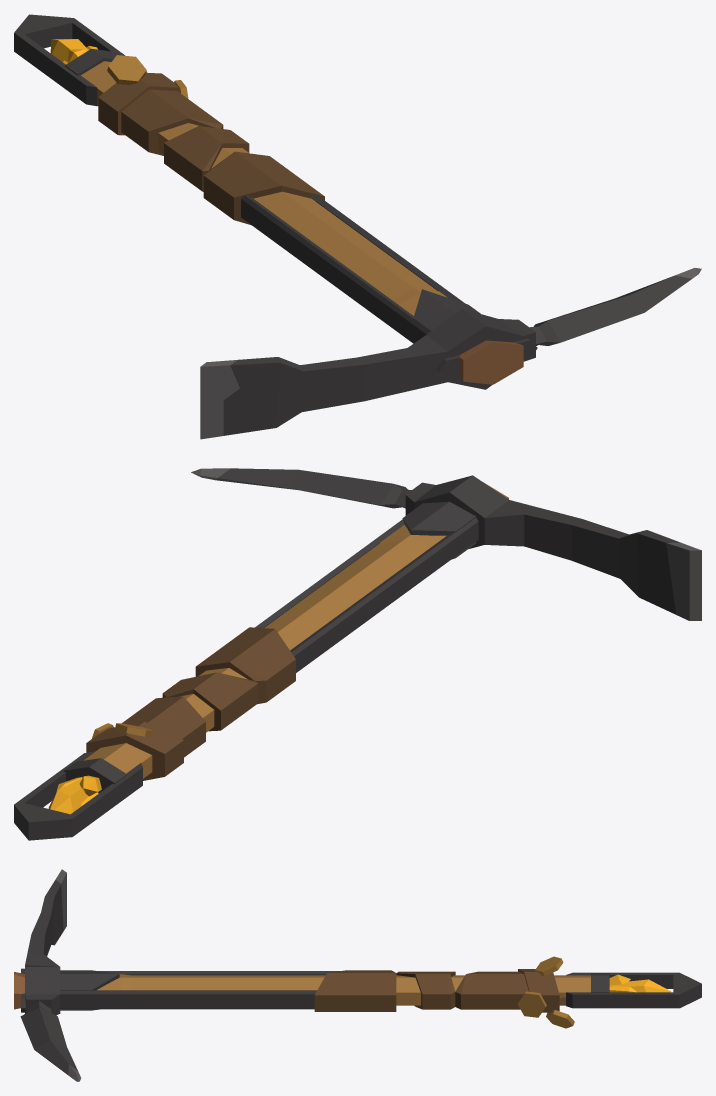
File: SM_Pickaxe_Dwarf.fbx
3 renders of one model, top to bottom at view 1: azimuth 30°, elevation 25°; view 2: azimuth 150°, elevation 25°; view 3: azimuth 270°, elevation 25°, orthographic. The views are drawn at different scales.
Visible parts, largest first — view 1: SM_Pickaxe_Dwarf; view 2: SM_Pickaxe_Dwarf; view 3: SM_Pickaxe_Dwarf.
Part boxes in pixels (<box>): SM_Pickaxe_Dwarf: <box>14,14,701,439</box>; SM_Pickaxe_Dwarf: <box>14,468,701,840</box>; SM_Pickaxe_Dwarf: <box>14,869,701,1081</box>.
Size of the model in its own units: 64.74 by 101 by 9.32.
